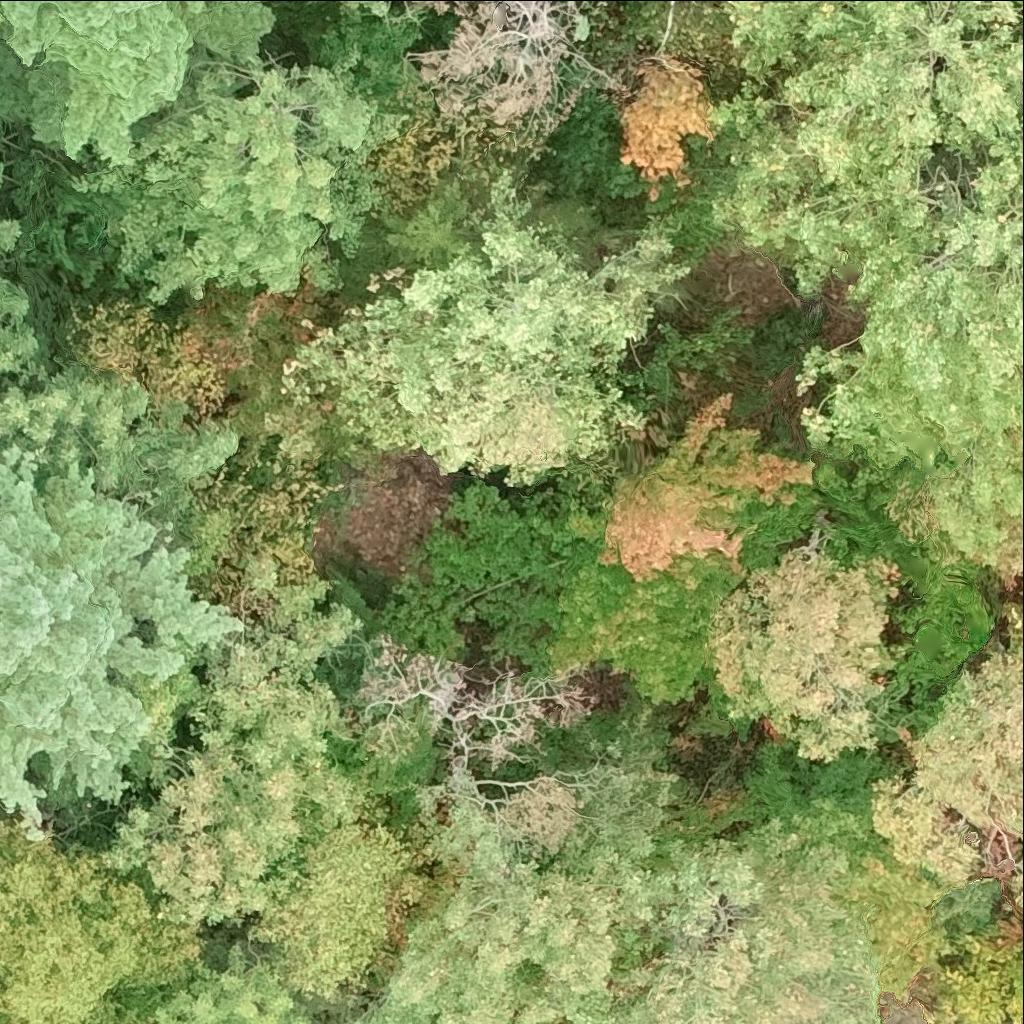crown: (286, 177, 683, 480), (794, 125, 1023, 561), (708, 0, 1023, 295), (531, 391, 816, 701), (0, 444, 229, 827), (76, 42, 403, 300), (352, 801, 677, 1023), (95, 680, 353, 927), (594, 823, 885, 1023), (0, 0, 275, 162), (708, 549, 905, 762), (0, 827, 202, 1023), (865, 647, 1023, 884), (256, 826, 424, 1013), (0, 275, 141, 472), (407, 0, 592, 124), (377, 181, 498, 282), (155, 945, 307, 1023), (925, 934, 1023, 1023), (995, 513, 1023, 594), (318, 0, 386, 19), (1006, 597, 1023, 658), (0, 214, 26, 253), (995, 912, 1023, 946), (1010, 856, 1023, 905), (1017, 942, 1023, 951), (0, 166, 3, 182)
